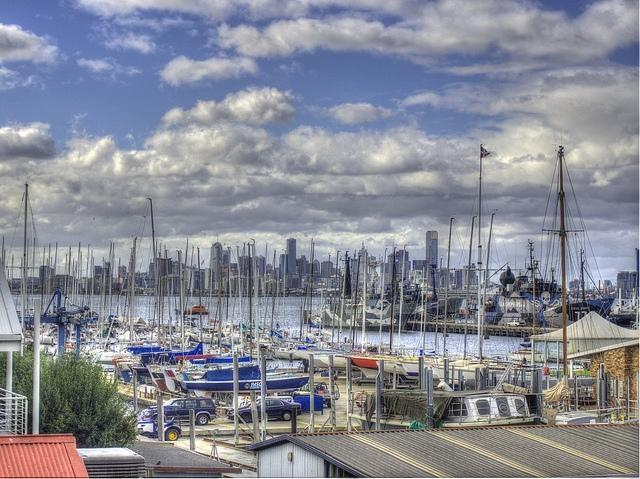car: (140, 397, 218, 425), (228, 400, 302, 423), (292, 382, 340, 408), (138, 418, 182, 442)
